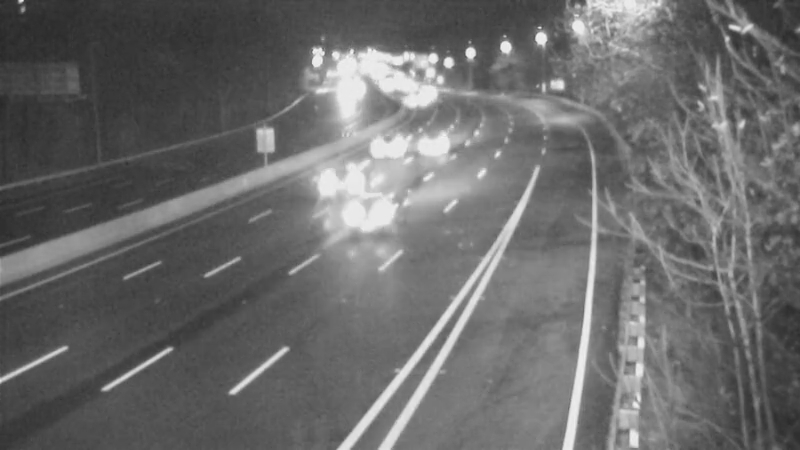vehicle: (308, 136, 388, 216), (326, 173, 406, 253), (403, 66, 453, 116), (386, 74, 436, 124), (416, 112, 466, 162), (372, 119, 422, 169)
